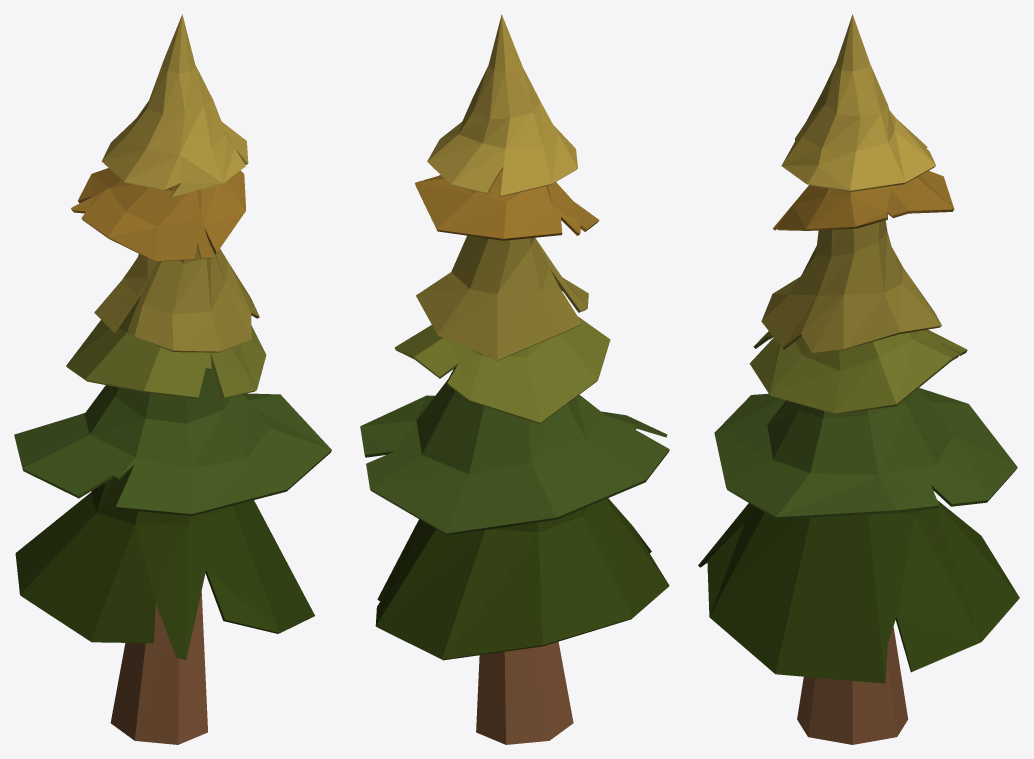
The model's file is tree2.FBX.
The picture shows the model from 3 angles, left to right: view 1: azimuth 30°, elevation 25°; view 2: azimuth 150°, elevation 25°; view 3: azimuth 270°, elevation 25°; orthographic projection. The views are drawn at different scales.
Parts seen in each view (by area): view 1: Cone038; view 2: Cone038; view 3: Cone038.
Boxes of the visible parts, left/top/right/bottom form: Cone038: left=14, top=14, right=331, bottom=744; Cone038: left=360, top=14, right=669, bottom=744; Cone038: left=698, top=14, right=1019, bottom=744.
Size of the model in its own units: 42.38 by 105 by 42.37.
Materials: 1 (1 with a texture image).
